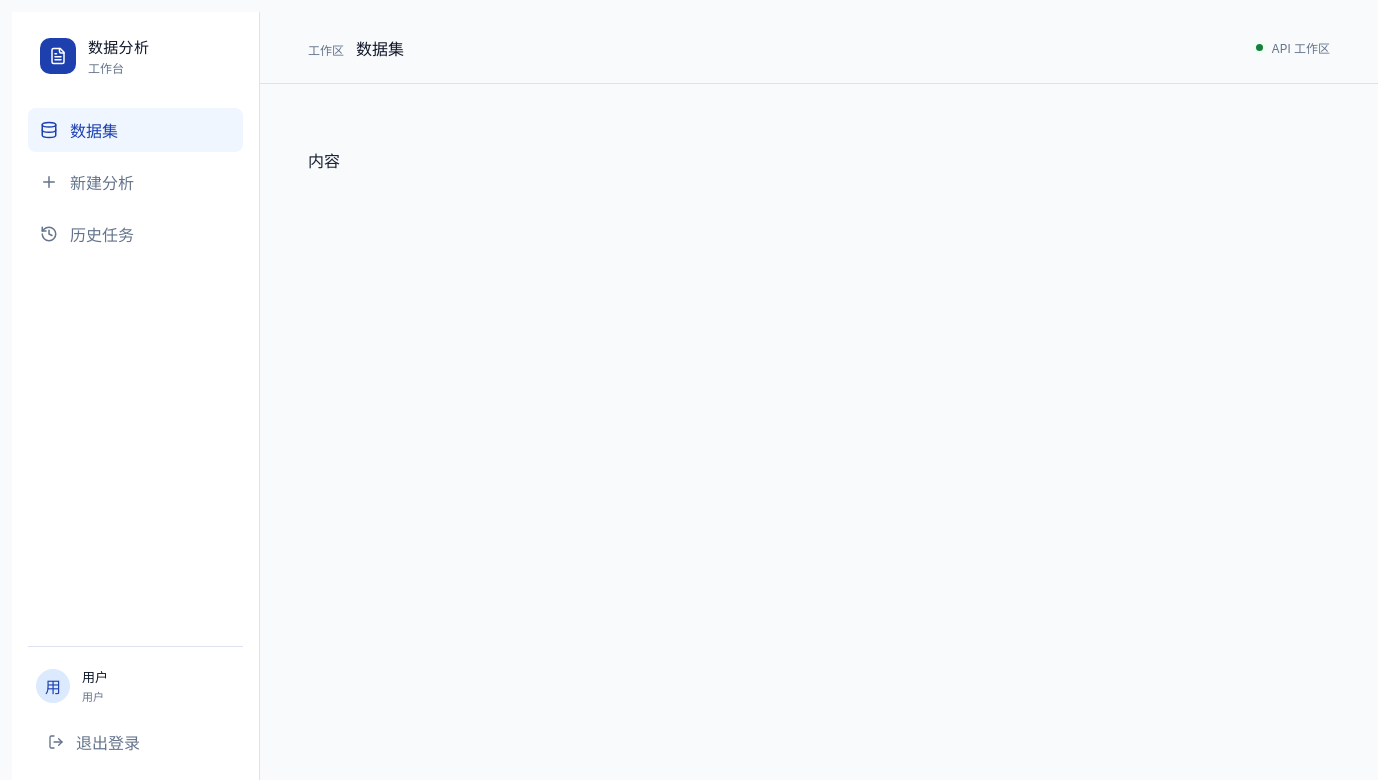
it: AppLayout › redirects after a failed logout and reports the API error safely
Click the button "退出登录".
click(136, 742)  # box left=36, top=720, right=235, bottom=764
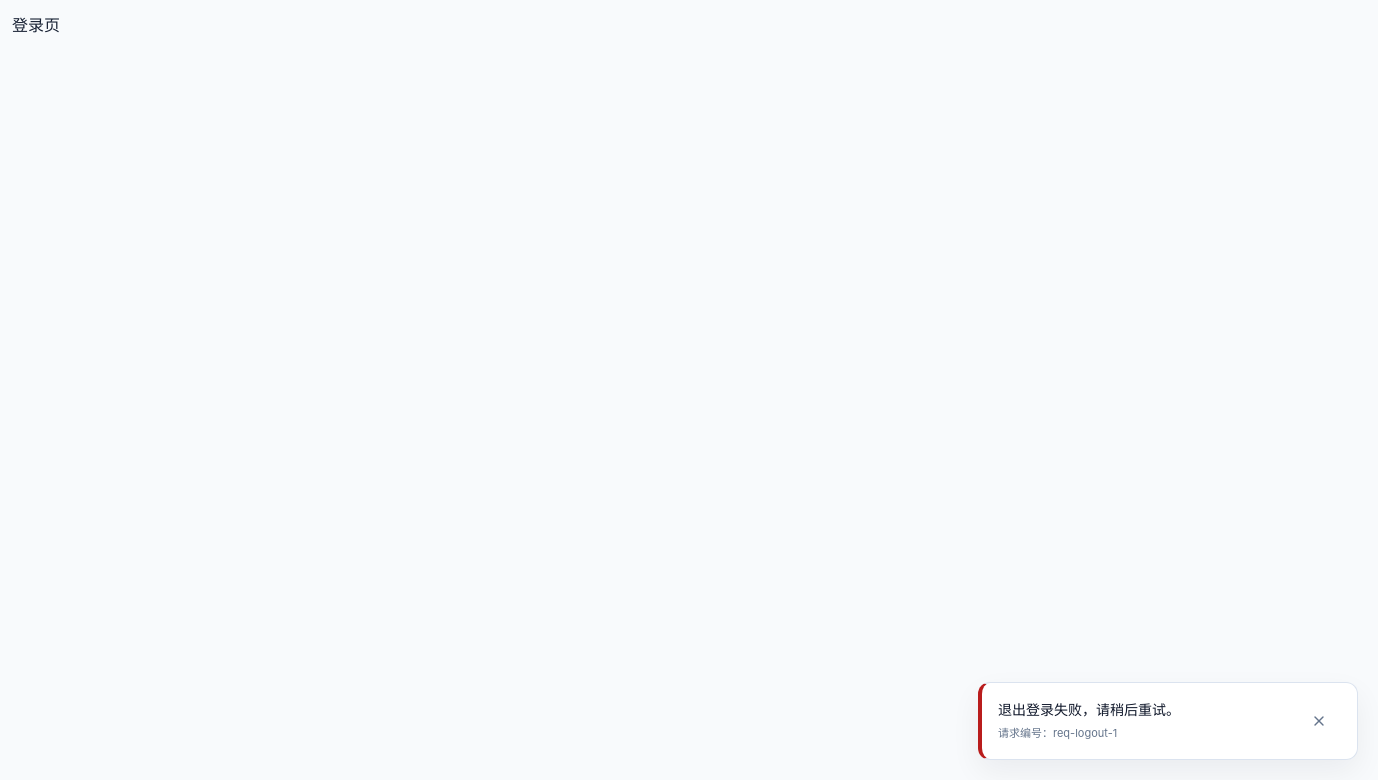
Expected: the text "登录页" is shown, left=12, top=15, right=60, bottom=35
Expected: the message shows "退出登录失败，请稍后重试。", left=998, top=701, right=1180, bottom=718
Expected: the message shows "请求编号：req-logout-1", left=978, top=682, right=1358, bottom=760
